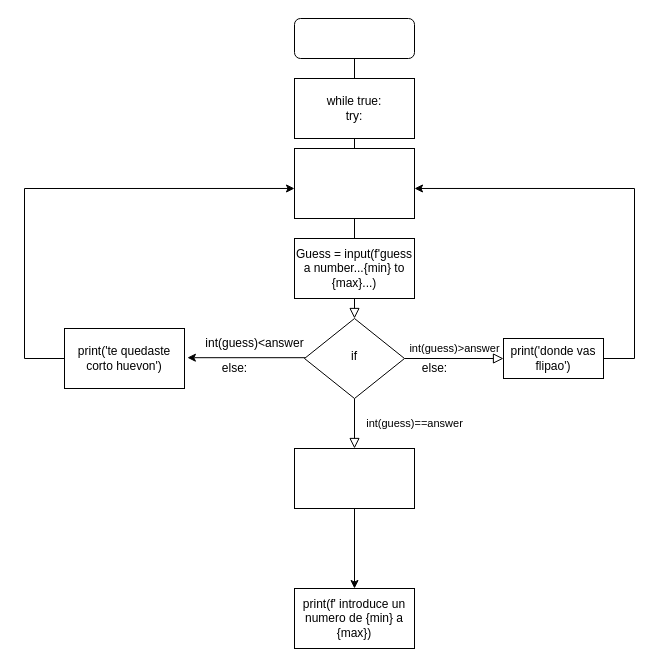
Image size: 660x666. Some labels were removed from this diagram. Here are the shapes that lost their labels. From the top down, the centre of each, then its label:
pixel 354 38: min=0 max=99 answer=randint (int(min),int(max))
pixel 354 183: count= 0 while (count=>1): print ('the count is: ', count) count=count+1
pixel 354 478: print(f'vaya genio solo en {count}) break
